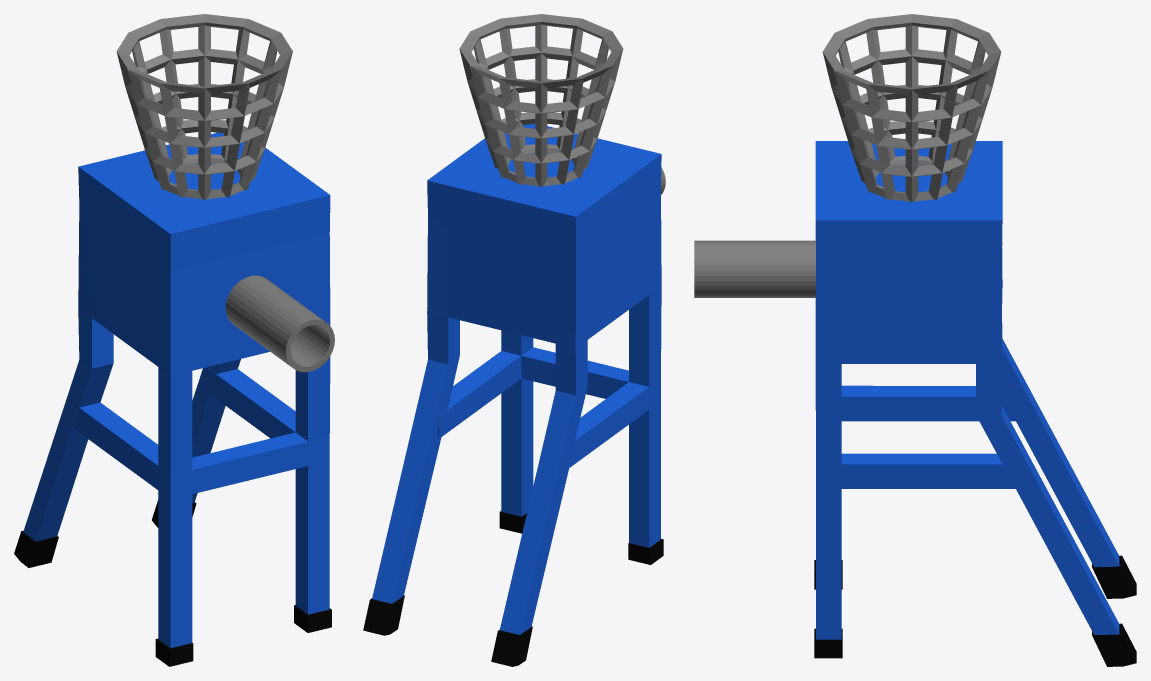
Rendered from canon.fbx.
3 views of the same model, side by side, from view 1: azimuth 30°, elevation 25°; view 2: azimuth 150°, elevation 25°; view 3: azimuth 270°, elevation 25° (orthographic). The views are drawn at different scales.
Parts seen in each view (by area): view 1: canon; view 2: canon; view 3: canon.
Boxes of the visible parts, box(x1,y1,x2,y2) form: canon: box(14, 14, 334, 666); canon: box(363, 14, 665, 666); canon: box(694, 14, 1136, 666).
Bounding box in the file's own units: 141 × 467 × 325.
